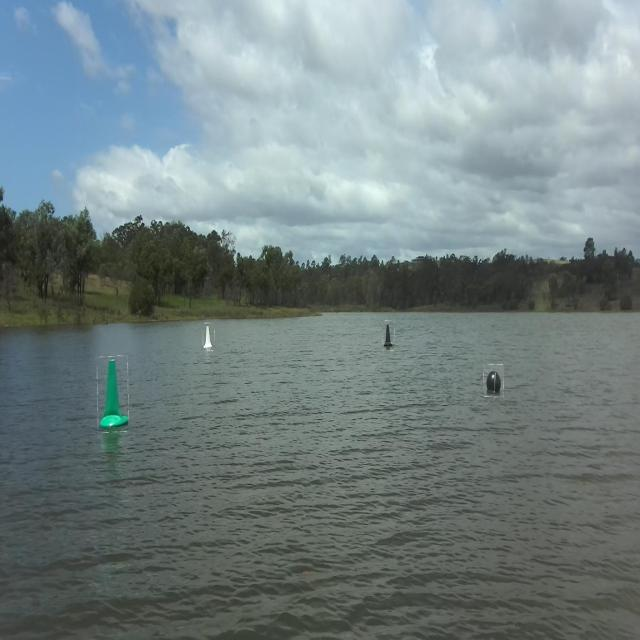Black_Buoy: (484, 363, 502, 401), (384, 320, 394, 351)
Green_Buoy: (97, 352, 132, 430)
White_Buoy: (202, 318, 215, 352)
